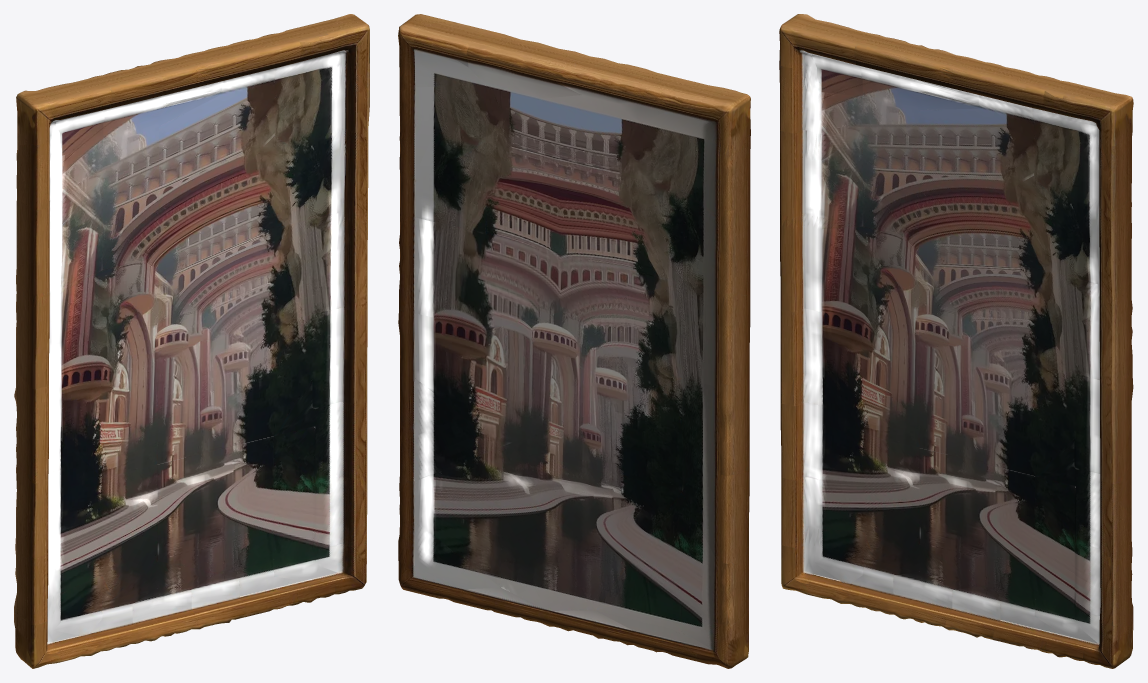
The model's file is canal-arches.glb.
3 renders of one model, left to right at view 1: azimuth 30°, elevation 25°; view 2: azimuth 150°, elevation 25°; view 3: azimuth 330°, elevation 25°, orthographic.
Visible parts, largest first — view 1: mesh_node; view 2: mesh_node; view 3: mesh_node.
Boxes of the visible parts, box(x1,y1,x2,y2) form: mesh_node: box(14, 14, 369, 668); mesh_node: box(398, 14, 750, 668); mesh_node: box(779, 14, 1133, 668).
Size of the model in its own units: 1.19 by 1.91 by 0.1448.
1 material, 1 textured.
